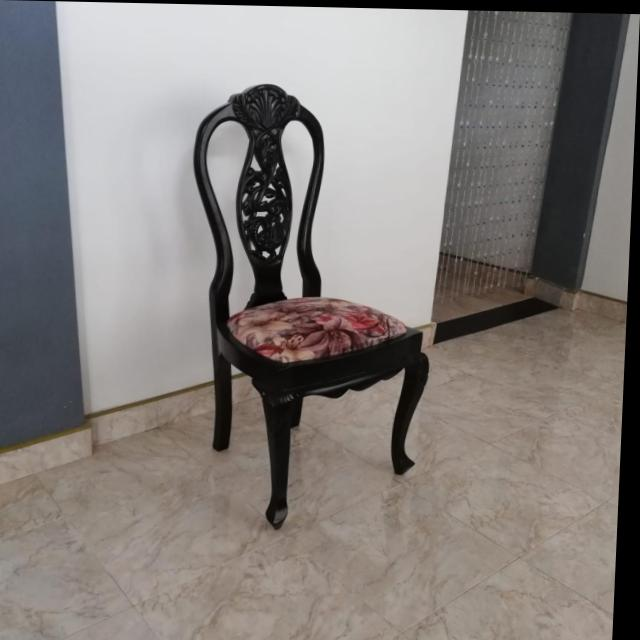Chair: (179, 80, 441, 530)
